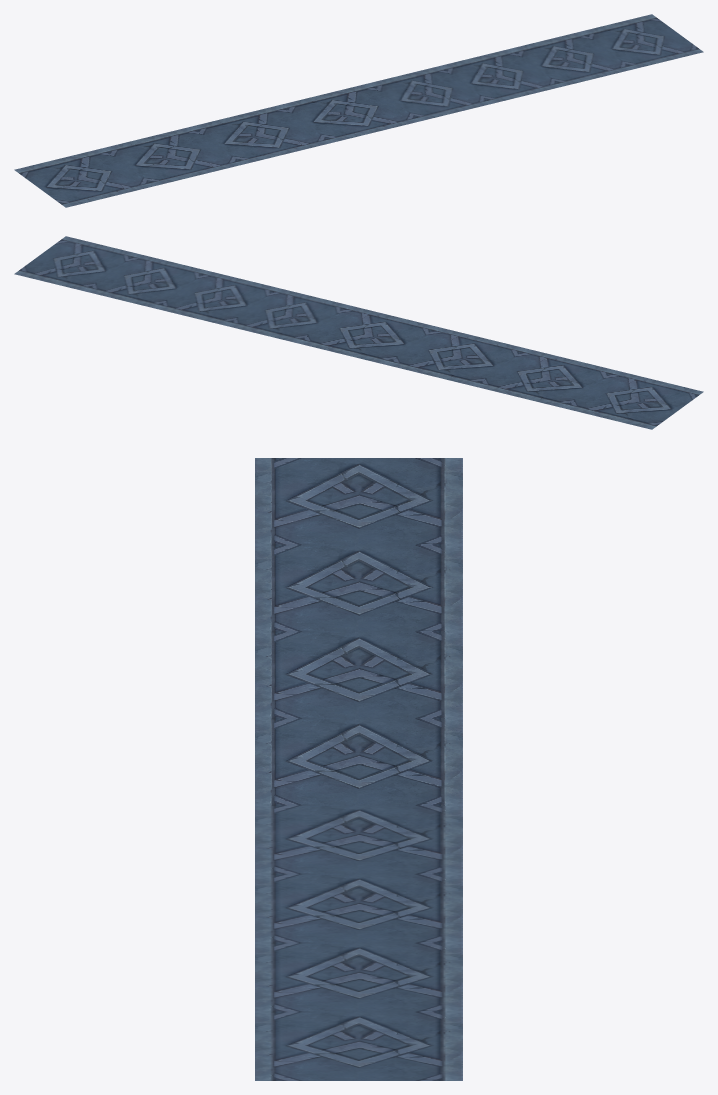
The model's file is Area_12_6.fbx.
The picture shows the model from 3 angles, top to bottom: view 1: azimuth 30°, elevation 25°; view 2: azimuth 150°, elevation 25°; view 3: azimuth 270°, elevation 25°; orthographic projection. The views are drawn at different scales.
Parts seen in each view (by area): view 1: Area_12_6; view 2: Area_12_6; view 3: Area_12_6.
Part boxes in pixels (box(x1,y1,x2,y2)): Area_12_6: box(14, 14, 703, 207); Area_12_6: box(14, 236, 703, 429); Area_12_6: box(255, 458, 462, 1080).
Size of the model in its own units: 4240 by 0.000129 by 598.
1 material, 1 textured.
